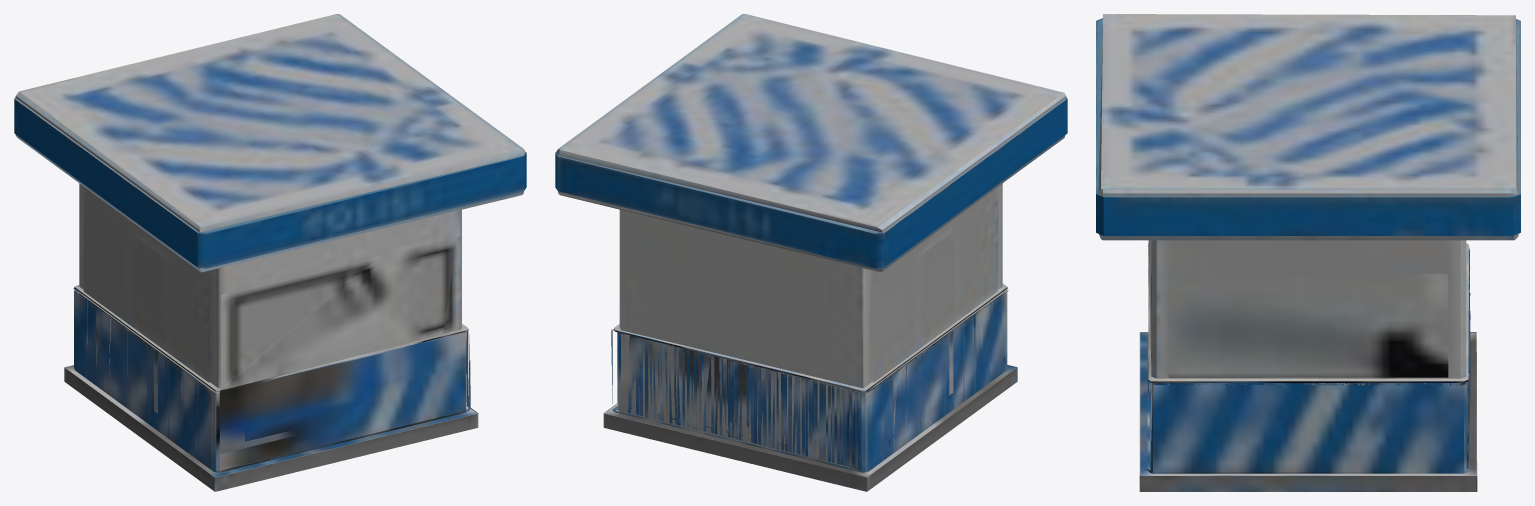
Rendered from pos_polisi_1_lod2.glb.
The picture shows the model from 3 angles, left to right: view 1: azimuth 30°, elevation 25°; view 2: azimuth 150°, elevation 25°; view 3: azimuth 270°, elevation 25°; orthographic projection. The views are drawn at different scales.
Visible parts, largest first — view 1: tripo_node_42241b40; view 2: tripo_node_42241b40; view 3: tripo_node_42241b40.
Part boxes in pixels (x1,y1,x2,y2): tripo_node_42241b40: (14,14,526,491); tripo_node_42241b40: (555,14,1067,491); tripo_node_42241b40: (1096,14,1520,491).
Bounding box in the file's own units: 1 × 0.8258 × 1.
Materials: 1 (1 with a texture image).
